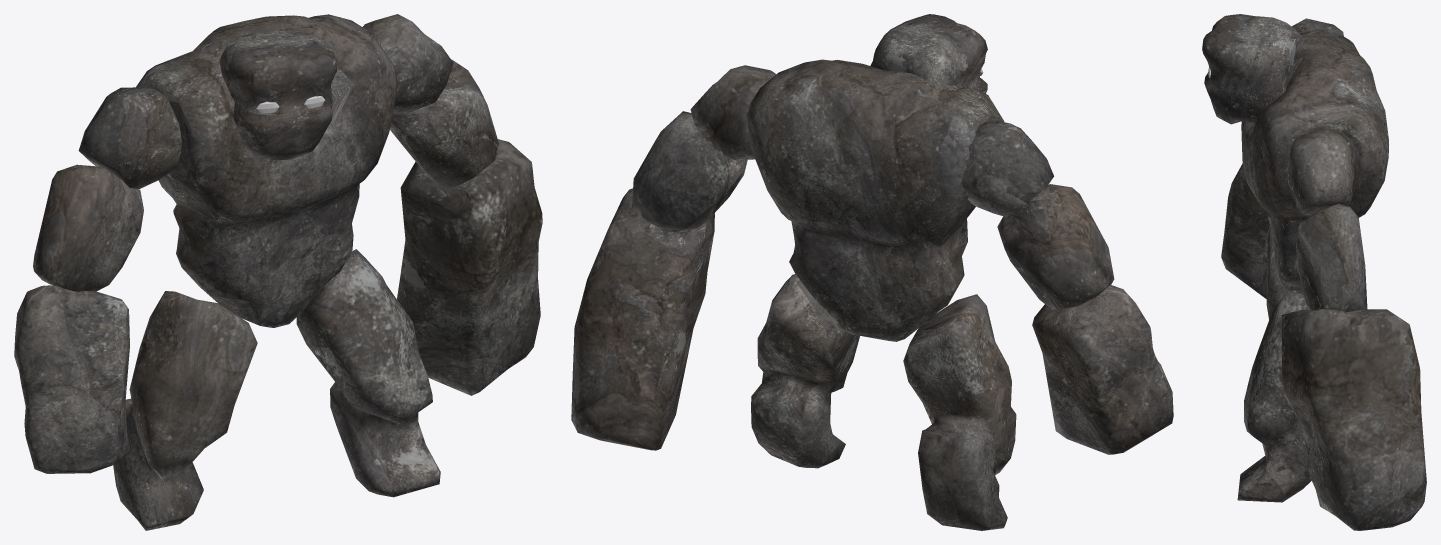
File: walk_000011.obj
3 renders of one model, left to right at view 1: azimuth 30°, elevation 25°; view 2: azimuth 150°, elevation 25°; view 3: azimuth 270°, elevation 25°, orthographic. The views are drawn at different scales.
Parts seen in each view (by area): view 1: hands&leg.001_ice.003, torso.001_ice.005, head.001_ice.004; view 2: hands&leg.001_ice.003, torso.001_ice.005, head.001_ice.004; view 3: hands&leg.001_ice.003, torso.001_ice.005, head.001_ice.004.
Part boxes in pixels (box(x1,y1,x2,y2)): hands&leg.001_ice.003: box(14, 14, 542, 530); torso.001_ice.005: box(136, 14, 397, 327); head.001_ice.004: box(219, 30, 336, 160); hands&leg.001_ice.003: box(571, 65, 1173, 530); torso.001_ice.005: box(746, 59, 1004, 341); head.001_ice.004: box(870, 14, 987, 93); hands&leg.001_ice.003: box(1221, 18, 1426, 530); torso.001_ice.005: box(1241, 29, 1388, 295); head.001_ice.004: box(1202, 14, 1302, 124).
Bounding box in the file's own units: 11.79 × 9.64 × 4.66.
2 materials, 1 textured.
